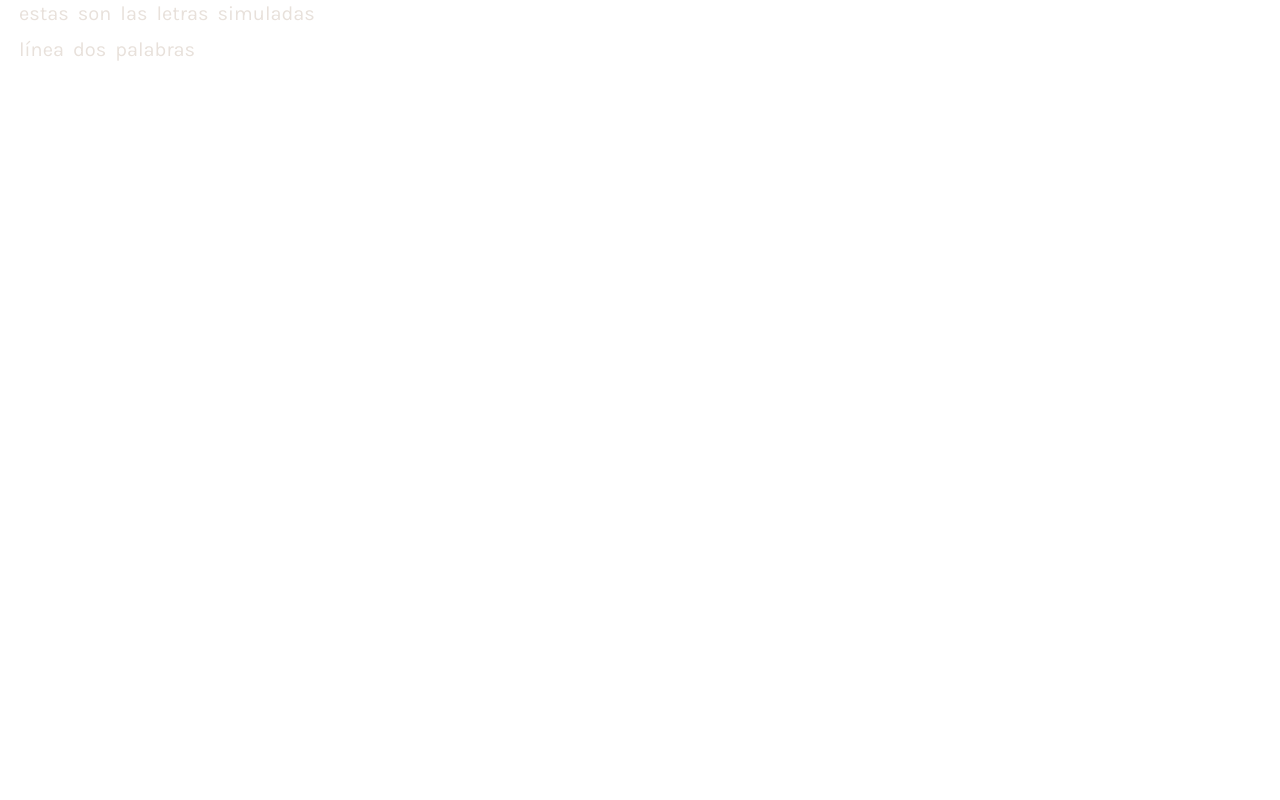
Test: TranslationPanel › opens WordModal when a word is pressed
This screenshot has width=1280, height=800.
Click the text "estas" at (44, 14), box 19,2 -> 69,25
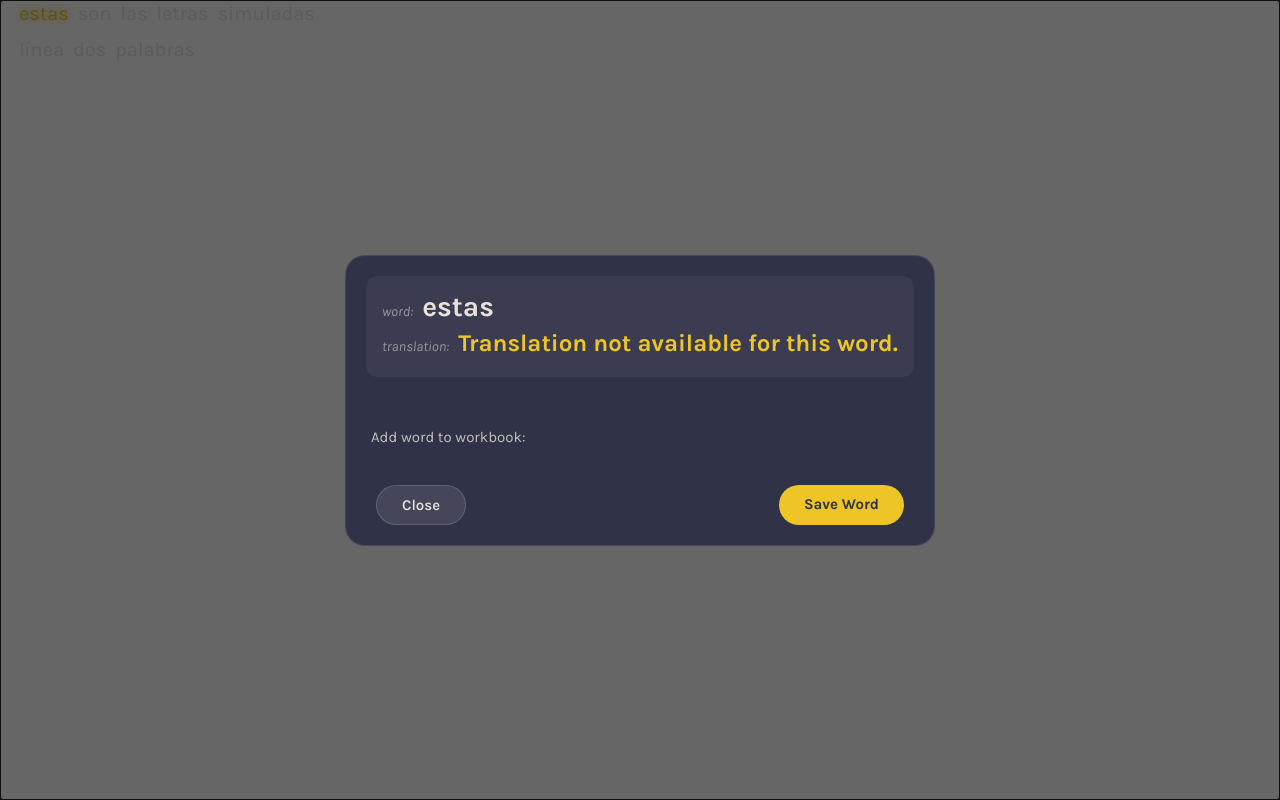
Expected: the text "estas" is shown 2 times, 19,2 -> 69,25; 422,290 -> 494,322
